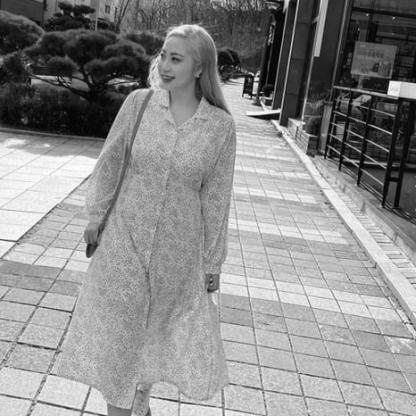dress: (60, 83, 246, 413)
